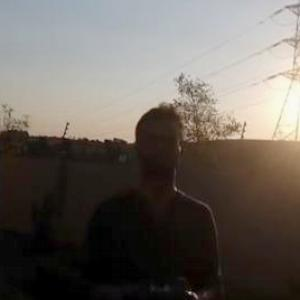follow: (84, 95, 229, 299)
